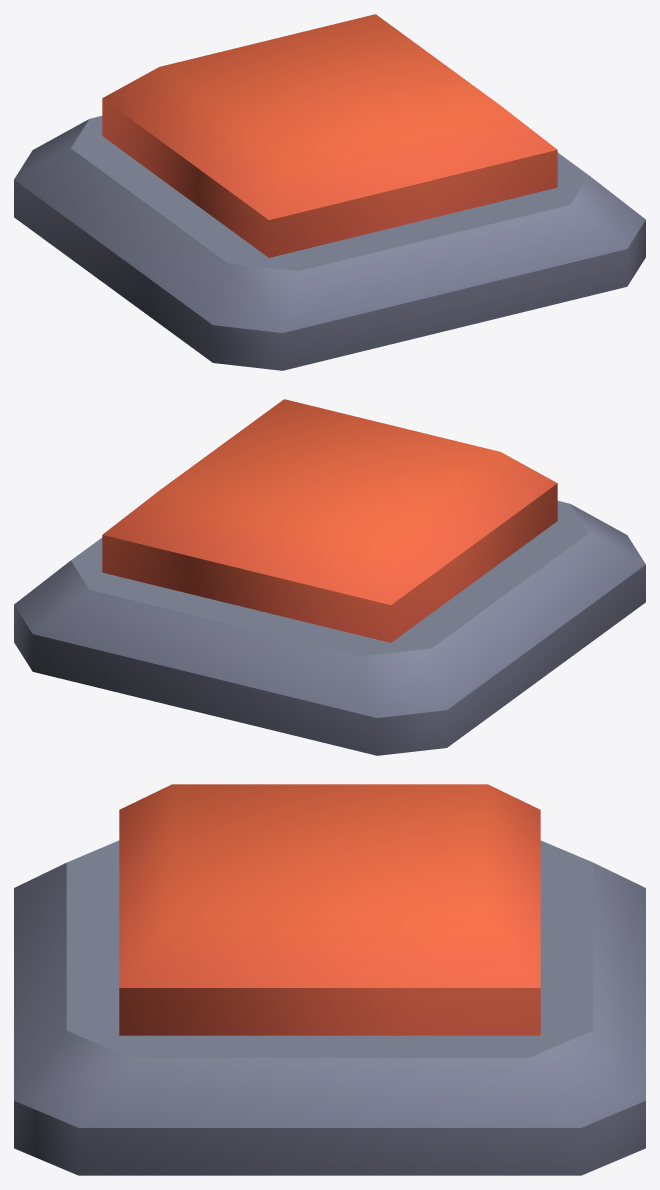
Rendered from button-square.glb.
3 renders of one model, top to bottom at view 1: azimuth 30°, elevation 25°; view 2: azimuth 150°, elevation 25°; view 3: azimuth 270°, elevation 25°, orthographic. The views are drawn at different scales.
Visible parts, largest first — view 1: button-square, button; view 2: button-square, button; view 3: button-square, button.
Boxes of the visible parts, x1,y1,x2,y2 form: button-square: (14,116,645,370); button: (102,14,557,257); button-square: (14,501,645,755); button: (102,399,557,642); button-square: (14,840,645,1175); button: (119,784,540,1035).
Bounding box in the file's own units: 0.6 × 0.2 × 0.6.
1 material, 1 textured.
